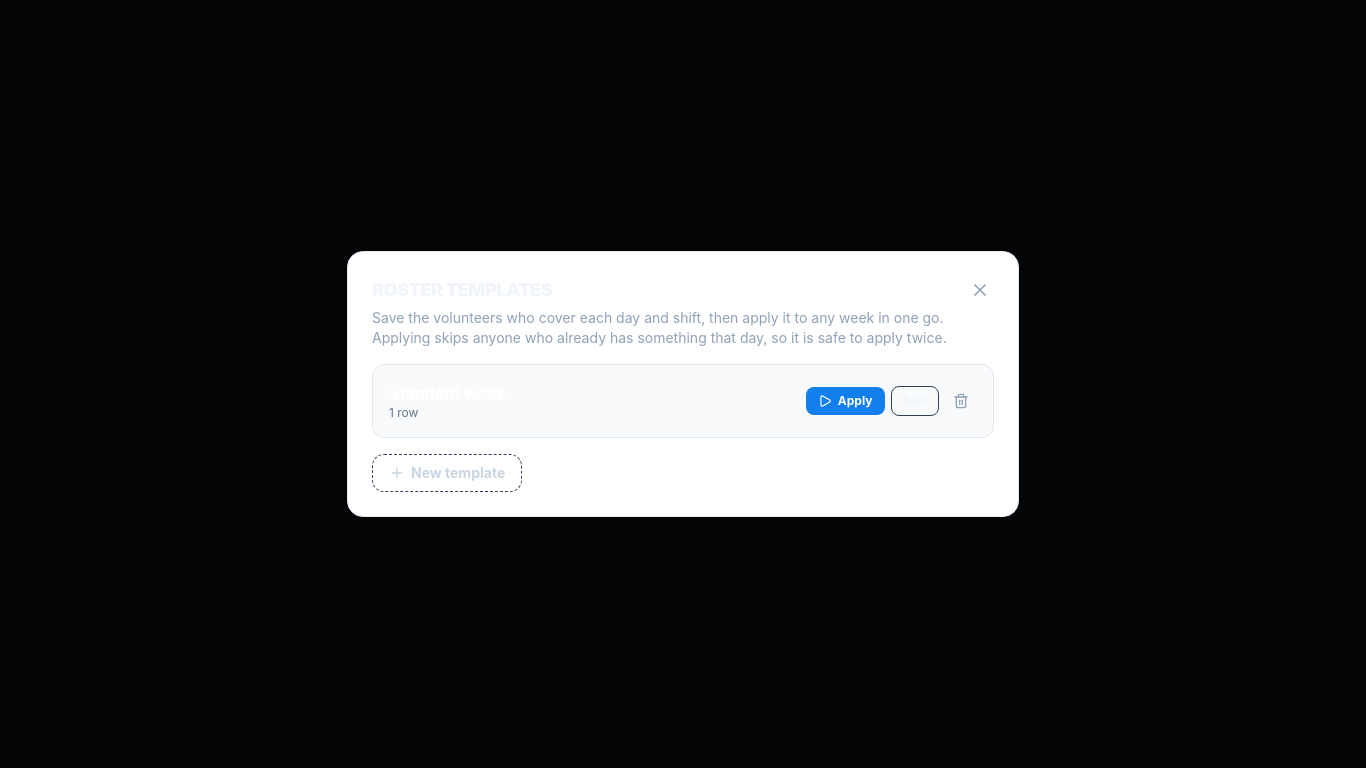
Test: RosterTemplatesModal › deletes a template after confirming
The width and height of the screenshot is (1366, 768).
Click the button named "Delete Standard week".
click(961, 401)  # box [945, 385, 977, 417]
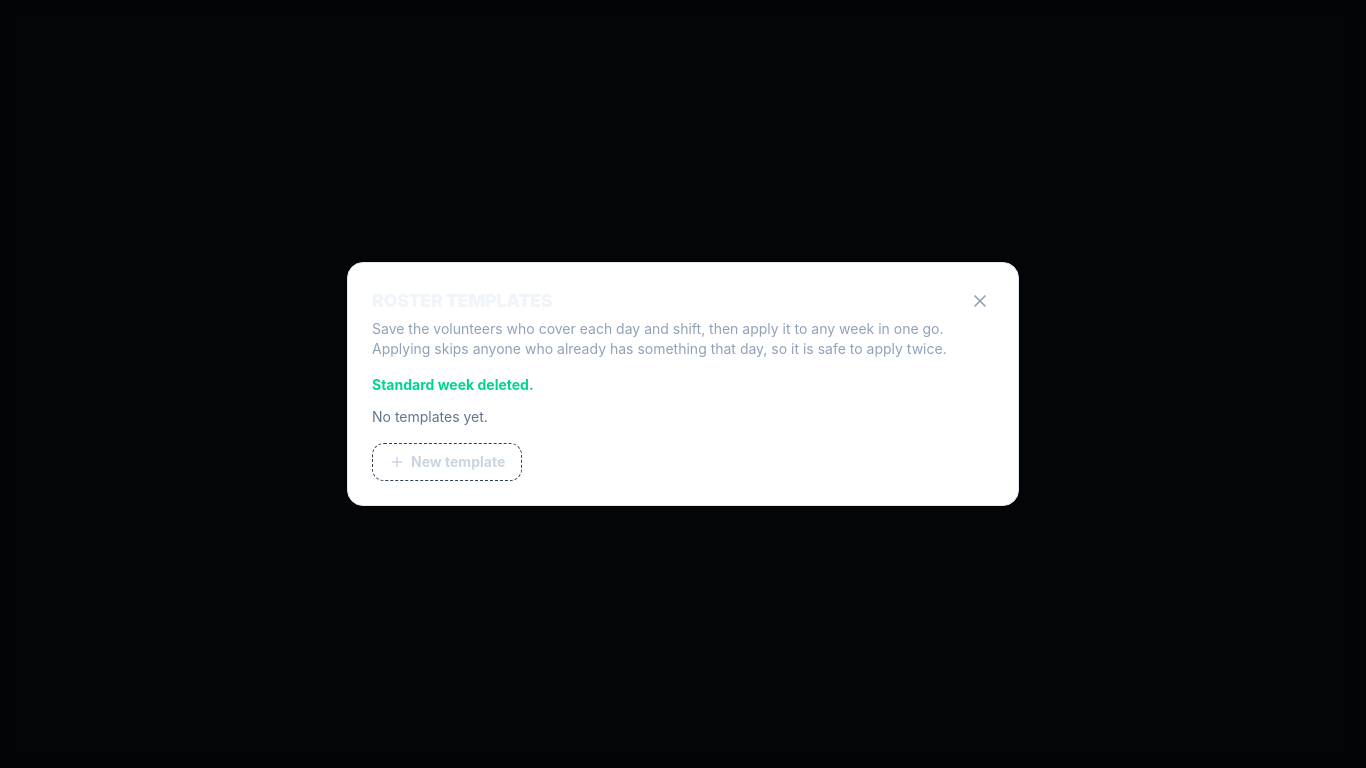
Check: the text "No templates yet." is shown, box [372, 408, 488, 425]
